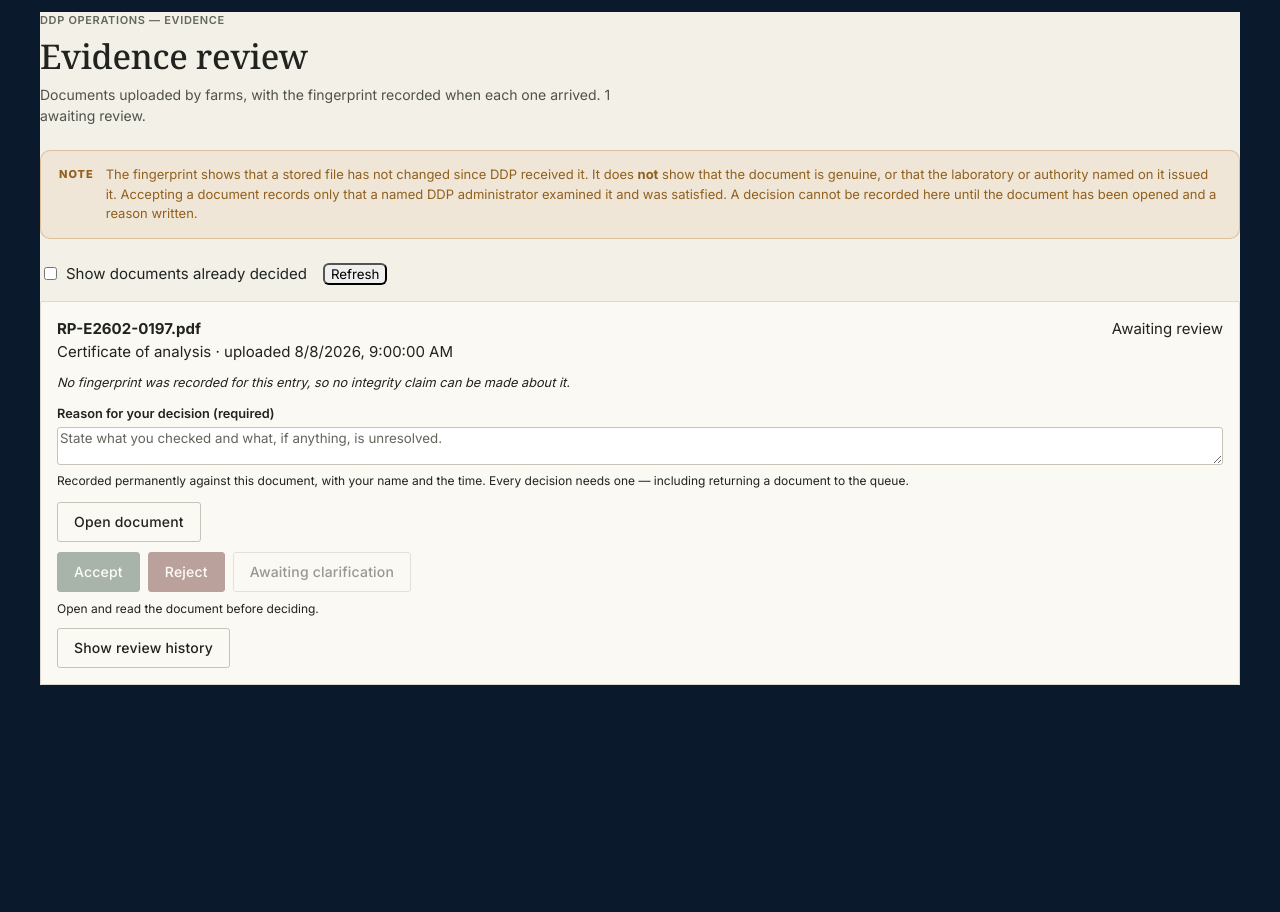
it: opening the document unlocks the decision › enables Accept and Reject once opened AND reasoned
Expected: the button "Accept" is shown, [57, 552, 140, 592]
Type "Cannabinoid figures match the batch record." into the text box labelled "Reason for your decision (required)". click: (640, 446)
box: [57, 427, 1223, 465]
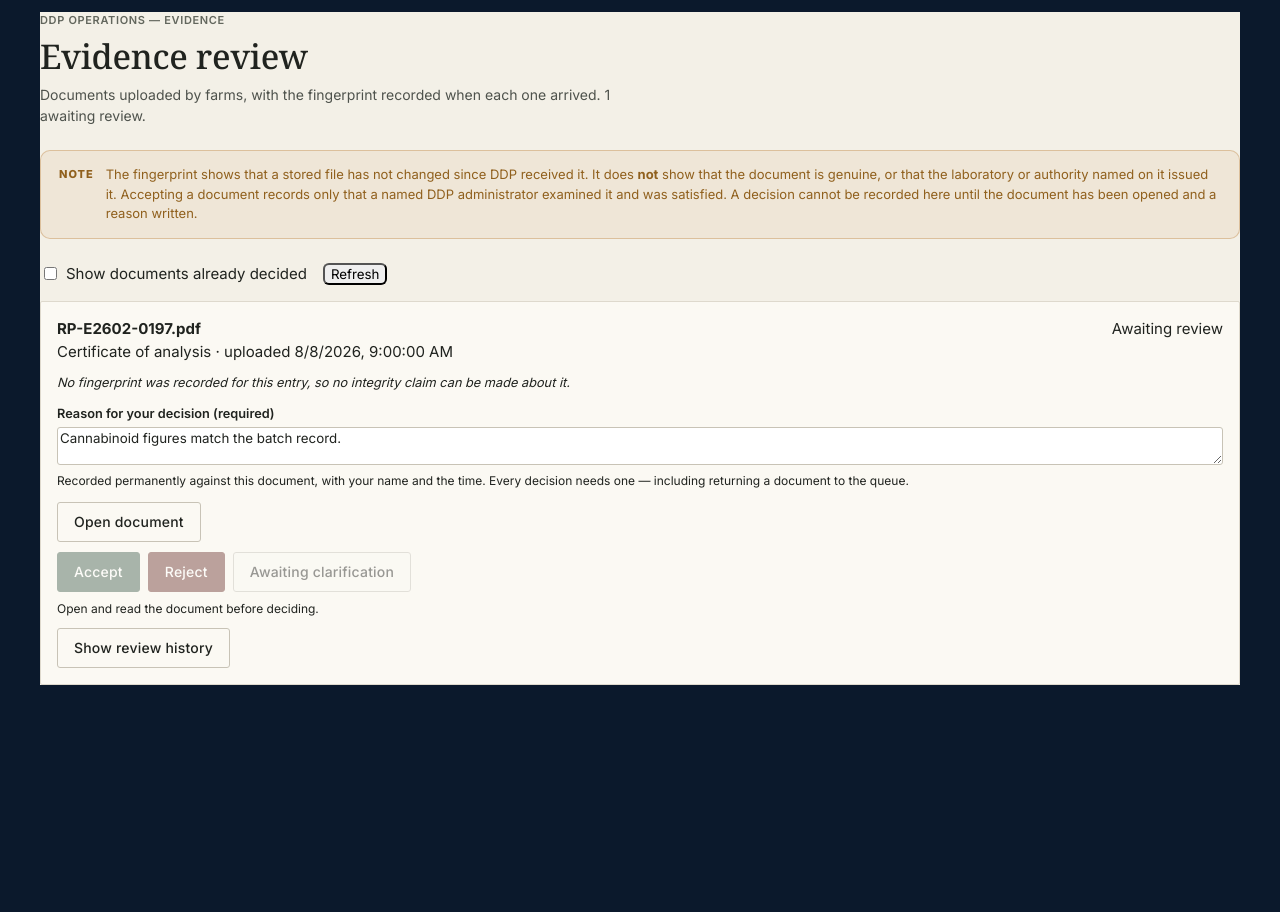
Expected: the button "Accept" is disabled, [57, 552, 140, 592]
Click the button "Open document". click: (129, 522)
box: [57, 502, 201, 542]
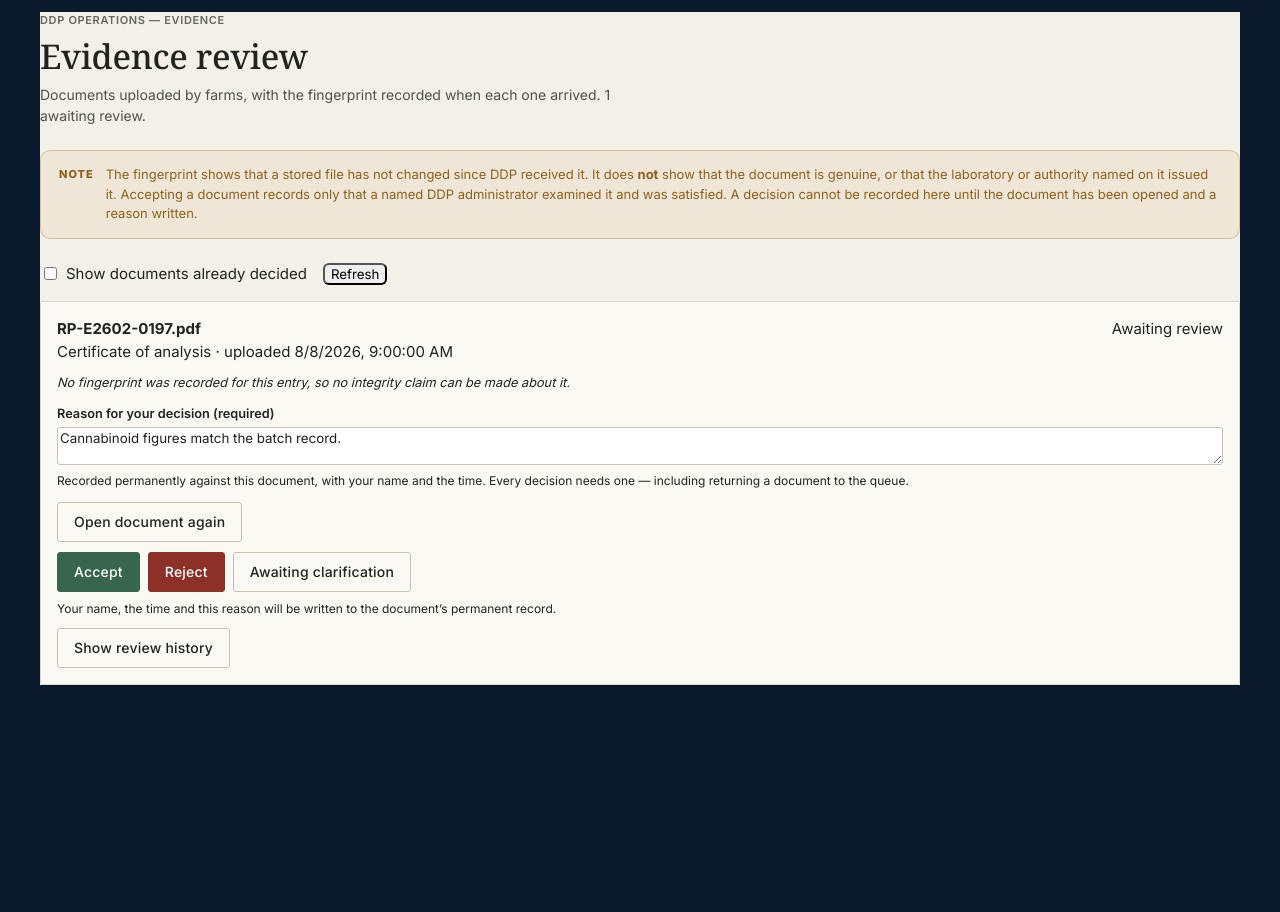
Expected: the button "Accept" is enabled, [57, 552, 140, 592]
Expected: the button "Reject" is enabled, [148, 552, 225, 592]
Expected: the text "permanent record" is shown, [57, 601, 556, 616]
